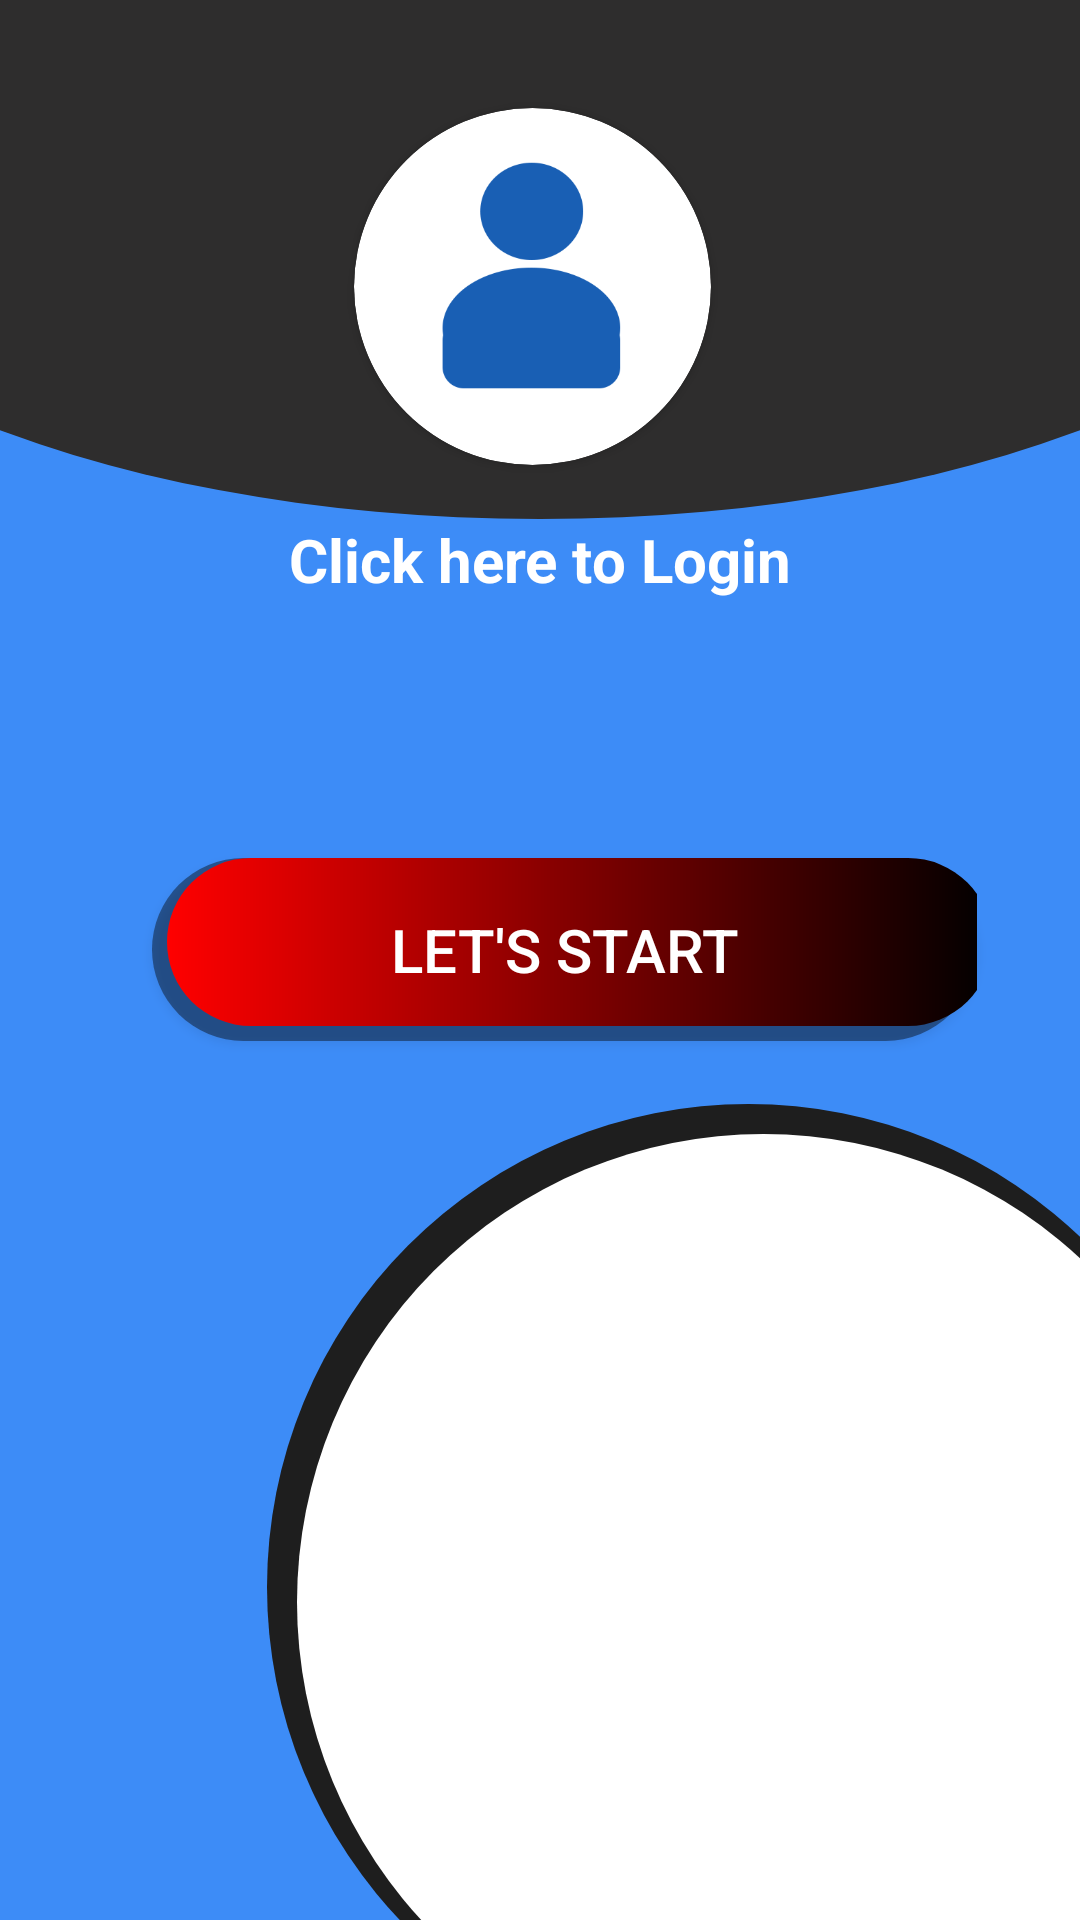

Where to tap for icons on this 1080px×1920px app screen, as point (x, y):
profile pic: point (531, 275)
